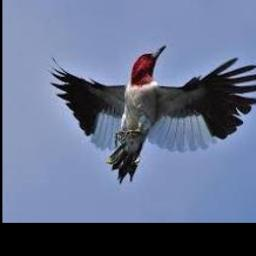Woodpecker: (49, 46, 256, 183)
